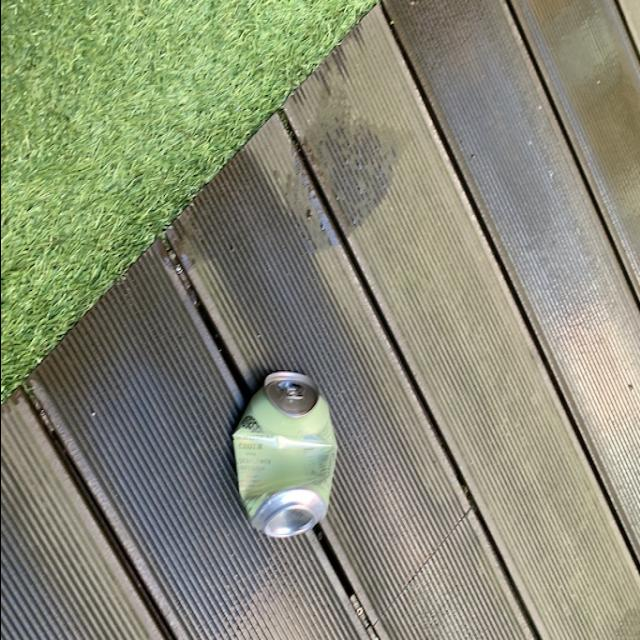litter: (220, 361, 344, 545)
